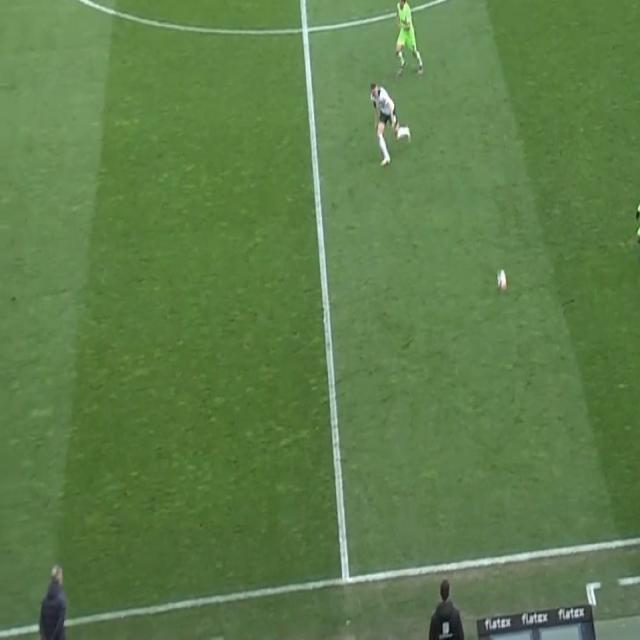ball: (494, 267, 508, 292)
